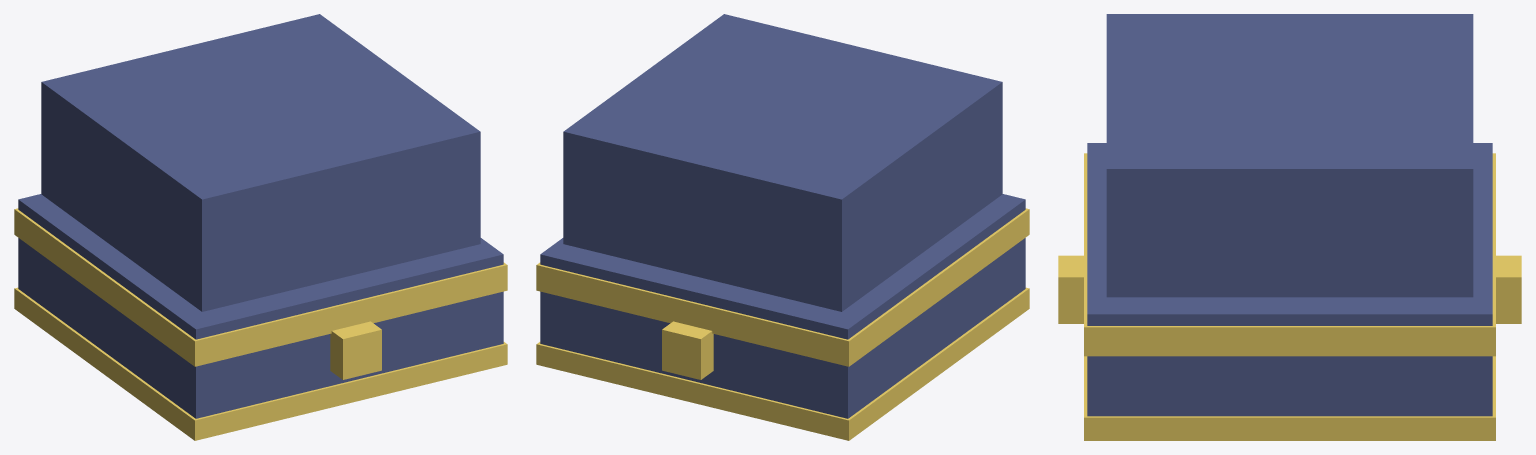
Rendered from casaco_capitao_manga_inf.glb.
3 renders of one model, left to right at view 1: azimuth 30°, elevation 25°; view 2: azimuth 150°, elevation 25°; view 3: azimuth 270°, elevation 25°, orthographic. The views are drawn at different scales.
Visible parts, largest first — view 1: casaco_capitao_manga_inf; view 2: casaco_capitao_manga_inf; view 3: casaco_capitao_manga_inf.
Boxes of the visible parts, x1=… form: casaco_capitao_manga_inf: x1=14, y1=14, x2=507, y2=440; casaco_capitao_manga_inf: x1=536, y1=14, x2=1029, y2=440; casaco_capitao_manga_inf: x1=1058, y1=14, x2=1521, y2=440.
Bounding box in the file's own units: 0.32 × 0.225 × 0.36.
